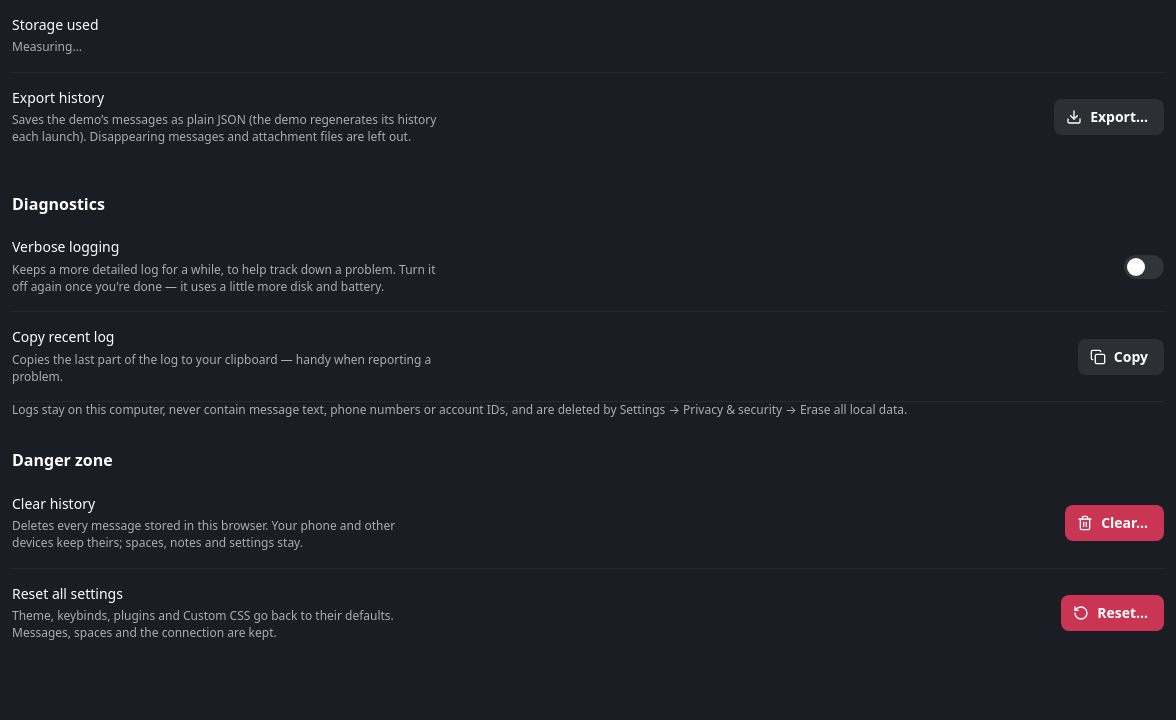
Scenario: Settings → Data & storage → Diagnostics › copies the in-memory ring buffer to the clipboard in the browser build
Click the button "Copy" at (1121, 357), box [1078,339,1164,375]
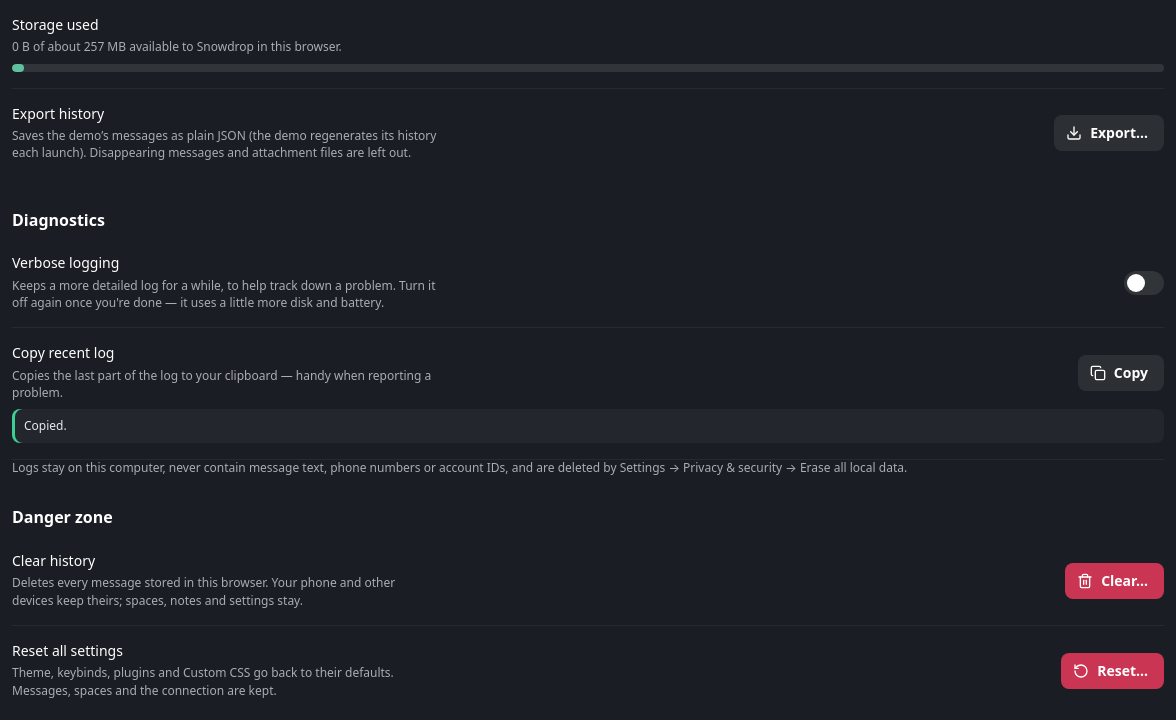
Result: the text "Copied." is shown at [12,409,1164,443]
